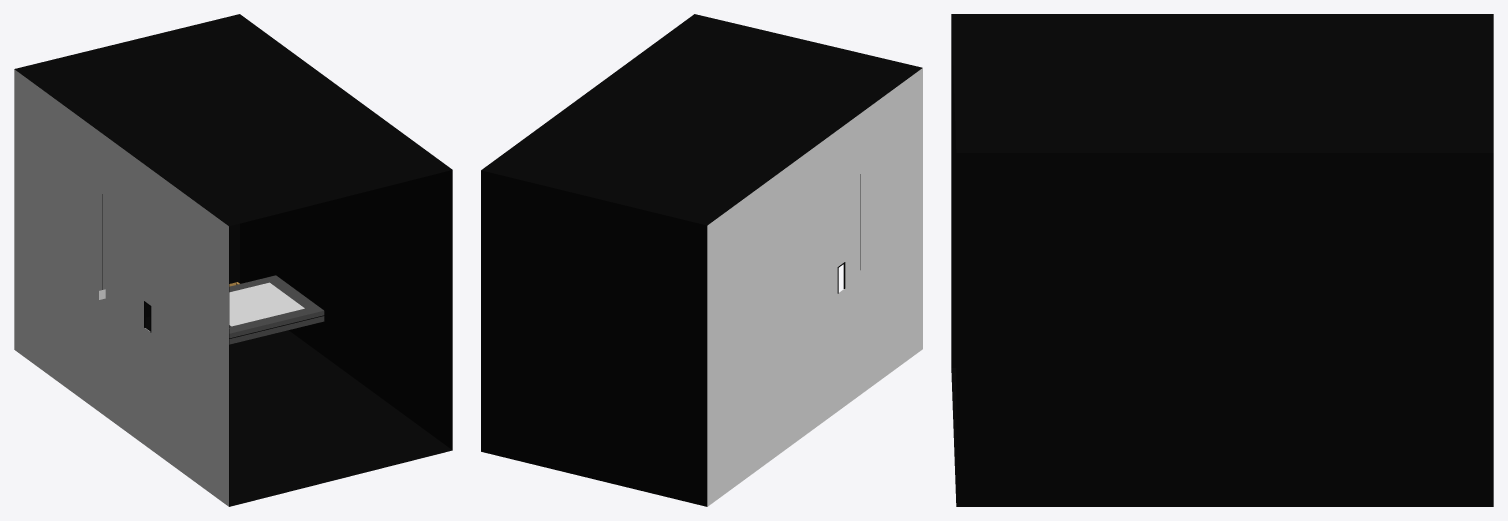
The model's file is DreamTransition.glb.
3 renders of one model, left to right at view 1: azimuth 30°, elevation 25°; view 2: azimuth 150°, elevation 25°; view 3: azimuth 270°, elevation 25°, orthographic. The views are drawn at different scales.
Visible parts, largest first — view 1: doorFrame, doorFrame.001, FloatingCase; view 2: doorFrame, doorFrame.001; view 3: doorFrame.
Boxes of the visible parts, <box> form: doorFrame: <box>14,14,452,506</box>; doorFrame.001: <box>14,69,228,506</box>; FloatingCase: <box>229,275,324,344</box>; doorFrame: <box>481,14,922,506</box>; doorFrame.001: <box>707,68,922,506</box>; doorFrame: <box>951,14,1493,506</box>.
Size of the model in its own units: 20.42 by 20.93 by 29.06.
1 material, 1 textured.
